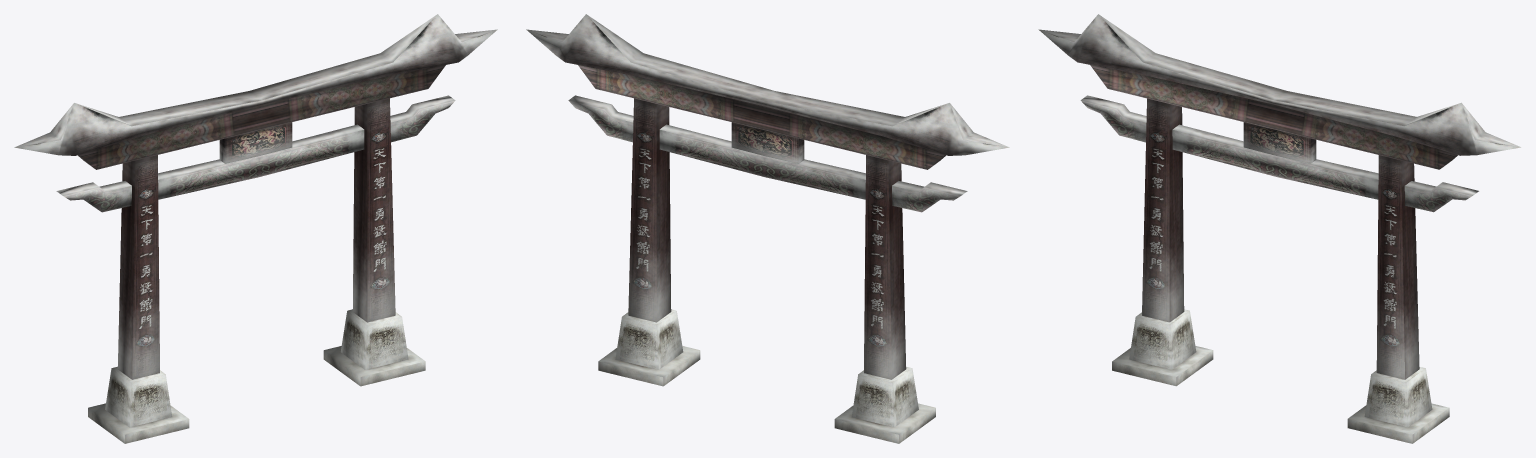
Rendered from snow-035-woodgate_lod-01.fbx.
3 renders of one model, left to right at view 1: azimuth 30°, elevation 25°; view 2: azimuth 150°, elevation 25°; view 3: azimuth 330°, elevation 25°, orthographic.
Parts seen in each view (by area): view 1: snow-035-woodgate; view 2: snow-035-woodgate; view 3: snow-035-woodgate.
Part boxes in pixels (x1,y1,x2,y2): snow-035-woodgate: [14, 14, 497, 443]; snow-035-woodgate: [526, 14, 1009, 443]; snow-035-woodgate: [1038, 14, 1520, 443].
Size of the model in its own units: 20.57 by 13.63 by 2.72.
